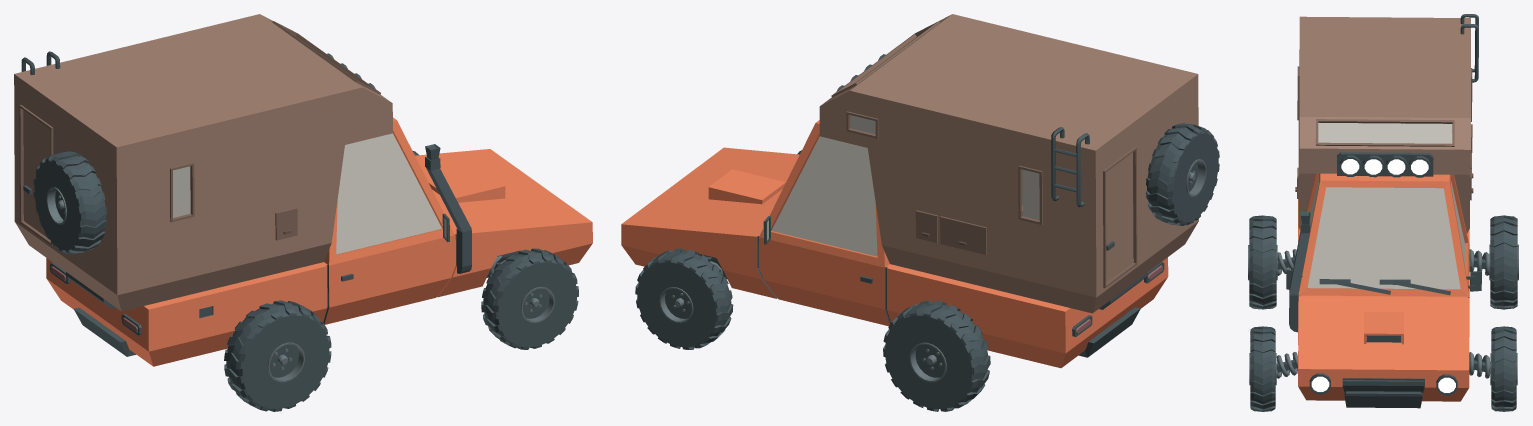
The model's file is cardraco.gltf.
3 views of the same model, side by side, from view 1: azimuth 30°, elevation 25°; view 2: azimuth 150°, elevation 25°; view 3: azimuth 270°, elevation 25° (orthographic). The views are drawn at different scales.
Visible parts, largest first — view 1: Frame, Rear_wheel.001, Front_wheel.001; view 2: Frame, Rear_wheel, Front_wheel; view 3: Frame, Rear_wheel.001, Rear_wheel, Front_wheel.001, Front_wheel, Spring, Spring.002, Spring.001, Spring.003.
Boxes of the visible parts, box(x1,y1,x2,y2) form: Frame: box(14, 14, 592, 366); Rear_wheel.001: box(224, 300, 331, 411); Front_wheel.001: box(481, 248, 578, 349); Frame: box(621, 14, 1219, 368); Rear_wheel: box(883, 300, 990, 411); Front_wheel: box(635, 248, 733, 349); Frame: box(1286, 14, 1481, 408); Rear_wheel.001: box(1248, 215, 1277, 309); Rear_wheel: box(1489, 215, 1518, 309); Front_wheel.001: box(1249, 326, 1276, 411); Front_wheel: box(1490, 326, 1517, 411); Spring: box(1469, 352, 1490, 378); Spring.002: box(1276, 352, 1297, 378); Spring.001: box(1469, 249, 1489, 275); Spring.003: box(1277, 249, 1296, 275).
Bounding box in the file's own units: 3.24 × 1.74 × 1.78.
